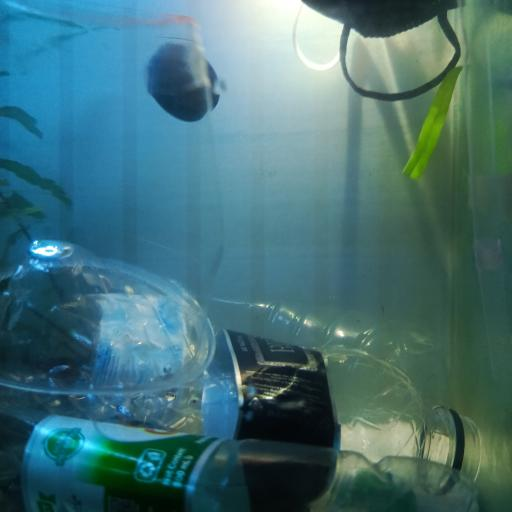bottle_cap: (148, 43, 220, 121)
mask: (303, 0, 467, 101)
plastic_bottle: (0, 236, 481, 497), (32, 292, 445, 421), (0, 402, 477, 512)
plastic_cup: (0, 0, 230, 403)
